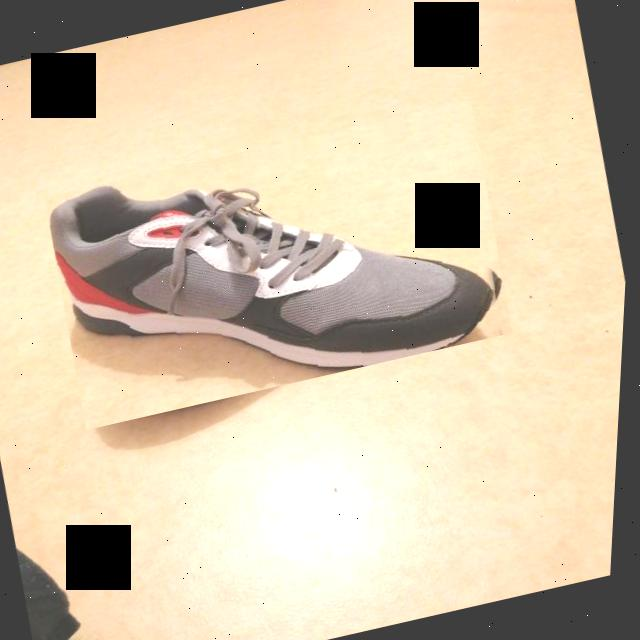shoe: (37, 100, 525, 430)
